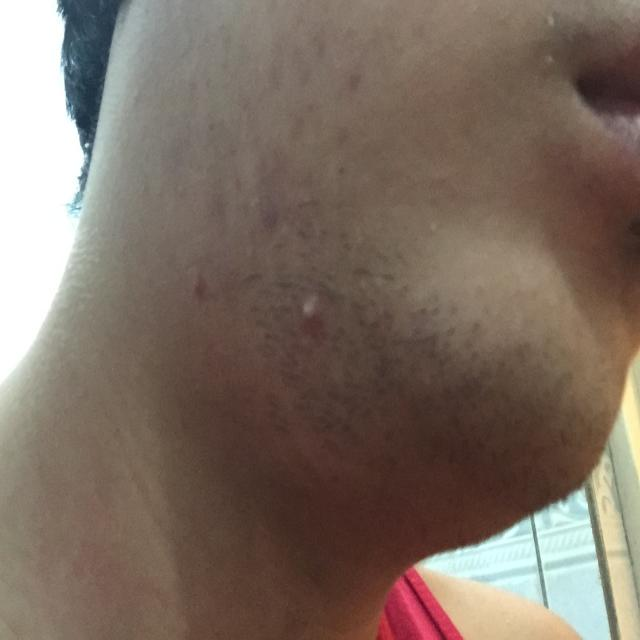blackheads: (278, 282, 336, 343)
